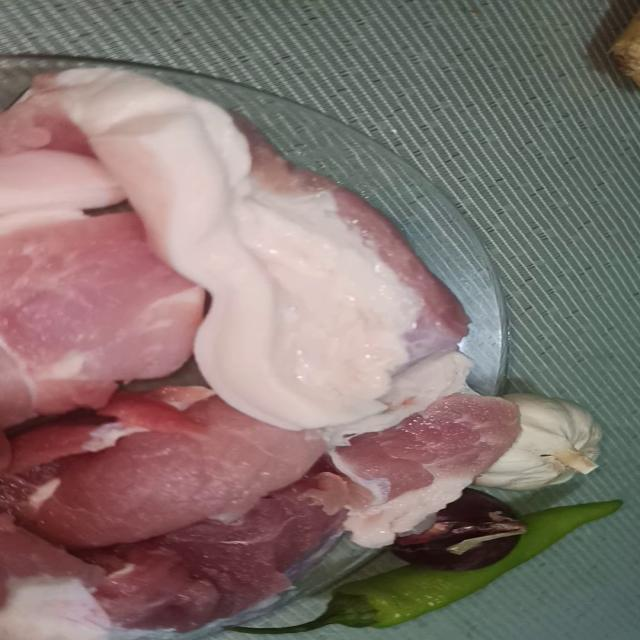chili_pepper: (251, 491, 610, 640)
garlic: (454, 382, 617, 490)
onion: (361, 490, 578, 568)
pork: (53, 75, 474, 440), (0, 480, 382, 628), (0, 397, 353, 517), (0, 200, 175, 417), (332, 387, 507, 548), (3, 72, 121, 223)
